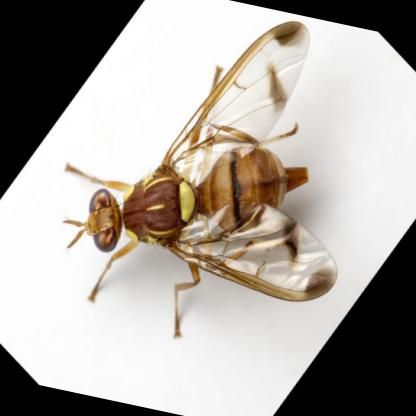fruit fly: (67, 18, 339, 303)
